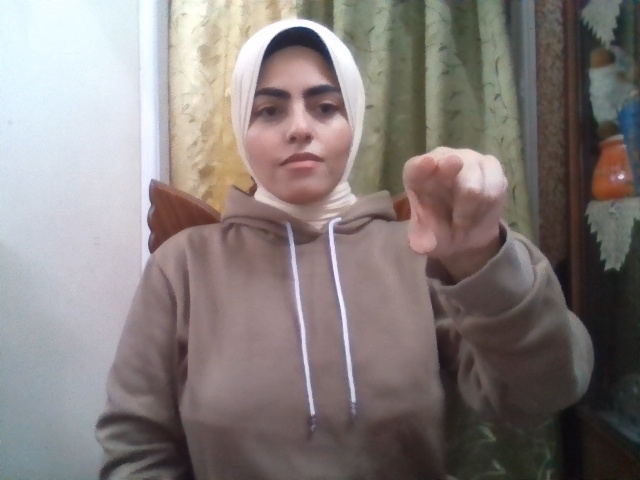no: (403, 146, 509, 259)
